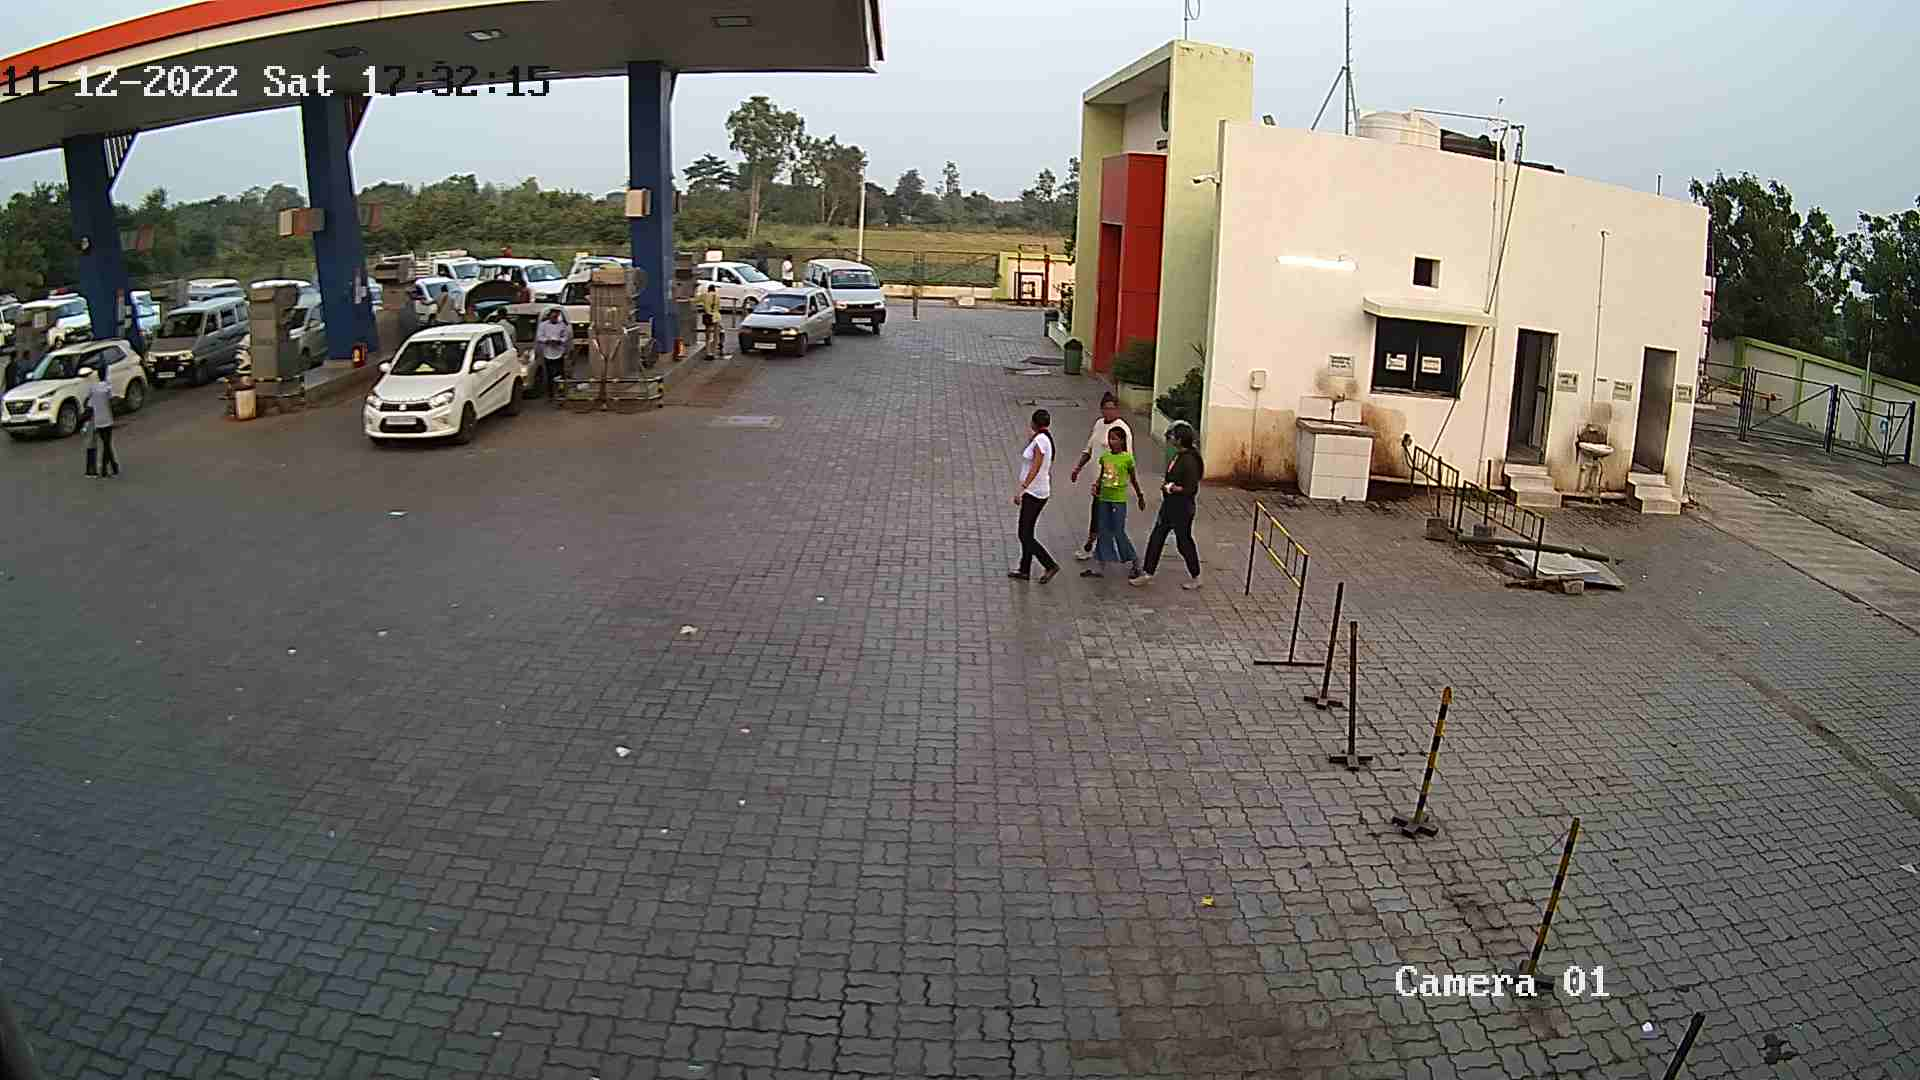Car: (360, 316, 533, 448), (1, 334, 154, 440), (137, 291, 256, 389), (477, 299, 582, 400), (731, 281, 843, 363), (549, 251, 630, 357), (793, 253, 893, 335), (401, 245, 485, 332), (684, 258, 785, 320), (280, 284, 336, 375), (472, 253, 567, 306), (18, 290, 98, 353), (119, 284, 167, 351), (185, 274, 249, 309), (1, 290, 22, 353)
